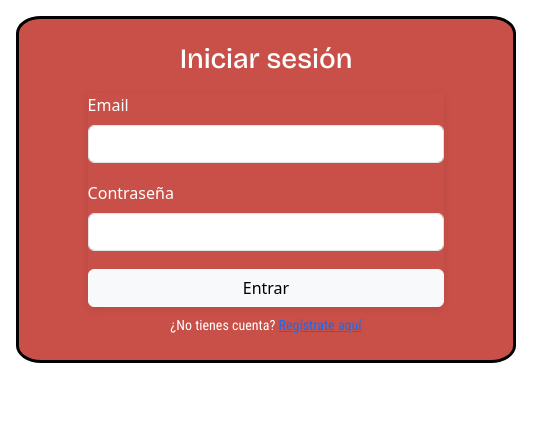
Test case: Login Page › rechaza un dominio de correo no permitido
Type "ash@hotmail.com" into the field labelled "Email" at point(266, 144), box [88,125,444,163]
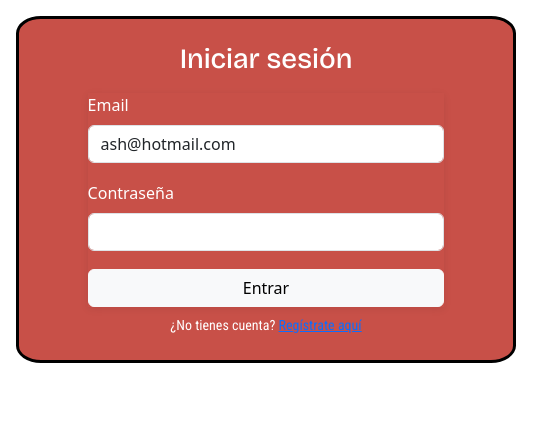
Type "poke123" into the password field labelled "Contraseña" at point(266, 232), box [88,213,444,251]
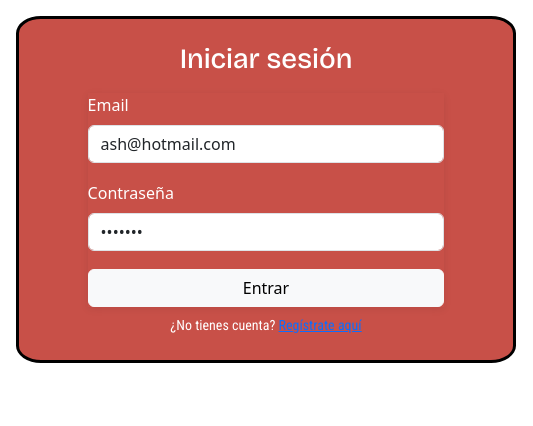
Click the button "Entrar" at point(266, 288), box [88,269,444,307]
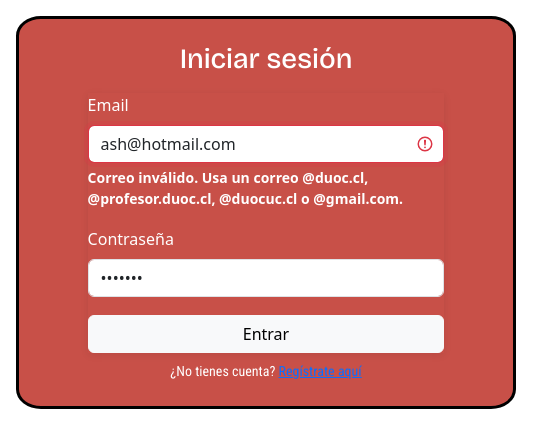
Result: the text "Correo inválido" is shown at [88,168,403,208]
